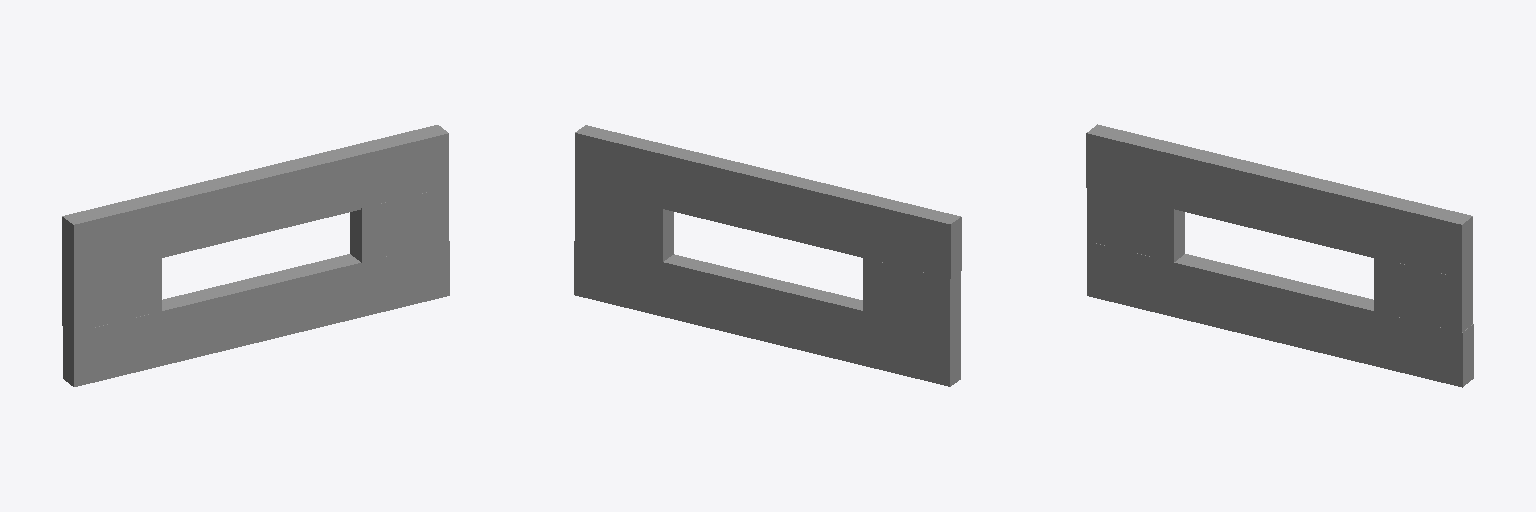
Rendered from RangeWall1.obj.
3 renders of one model, left to right at view 1: azimuth 30°, elevation 25°; view 2: azimuth 150°, elevation 25°; view 3: azimuth 330°, elevation 25°, orthographic.
Visible parts, largest first — view 1: Cube; view 2: Cube; view 3: Cube.
Boxes of the visible parts, <box> form: Cube: <box>62,125,449,386</box>; Cube: <box>574,125,961,386</box>; Cube: <box>1086,124,1473,387</box>.
Bounding box in the file's own units: 14.39 × 5.96 × 0.7529.